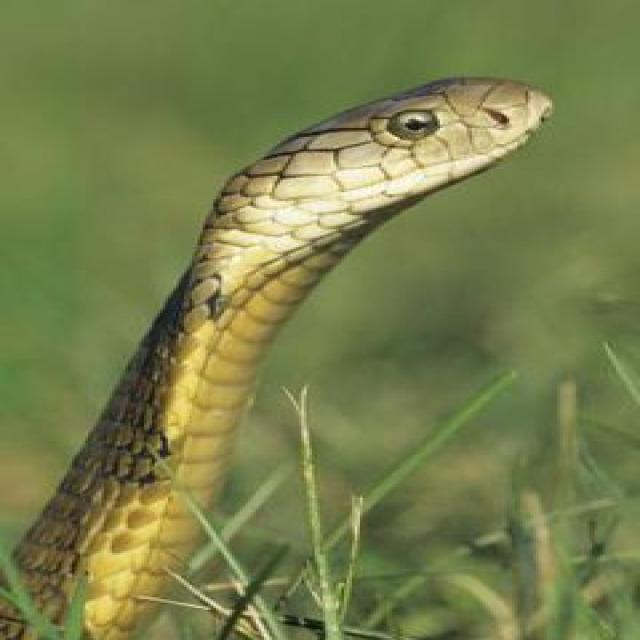Snake: (0, 72, 555, 638)
